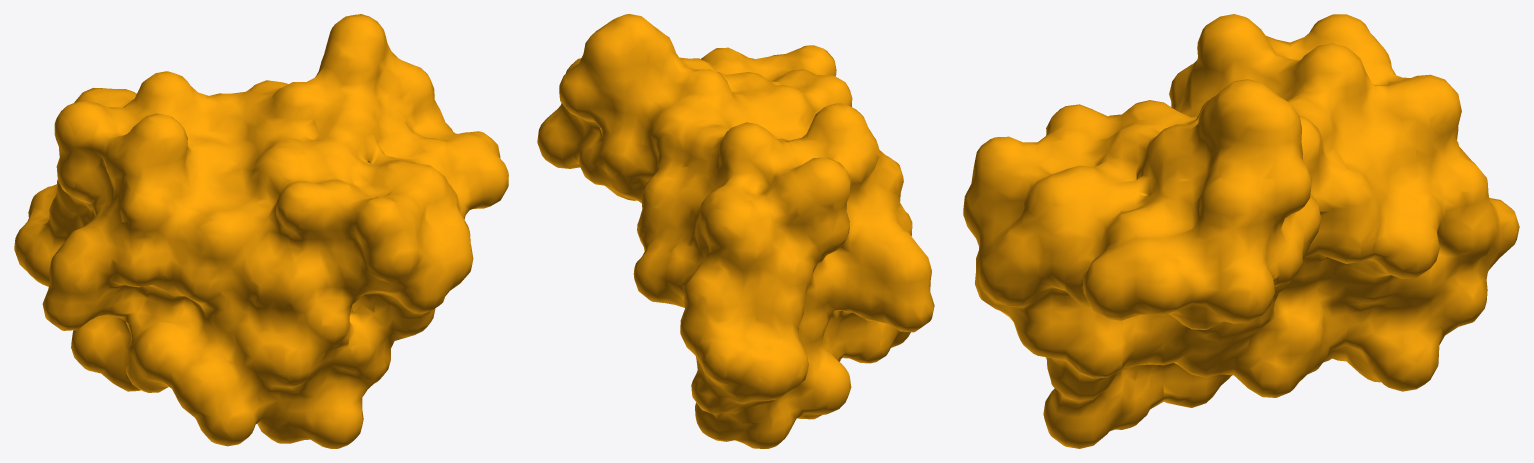
File: 1crn.obj
The picture shows the model from 3 angles, left to right: view 1: azimuth 30°, elevation 25°; view 2: azimuth 150°, elevation 25°; view 3: azimuth 270°, elevation 25°; orthographic projection. The views are drawn at different scales.
Visible parts, largest first — view 1: Surface1; view 2: Surface1; view 3: Surface1.
Boxes of the visible parts, left/top/right/bottom form: Surface1: left=14, top=14, right=508, bottom=448; Surface1: left=537, top=14, right=934, bottom=448; Surface1: left=963, top=14, right=1519, bottom=448.
Size of the model in its own units: 30.72 by 25.32 by 30.6.
